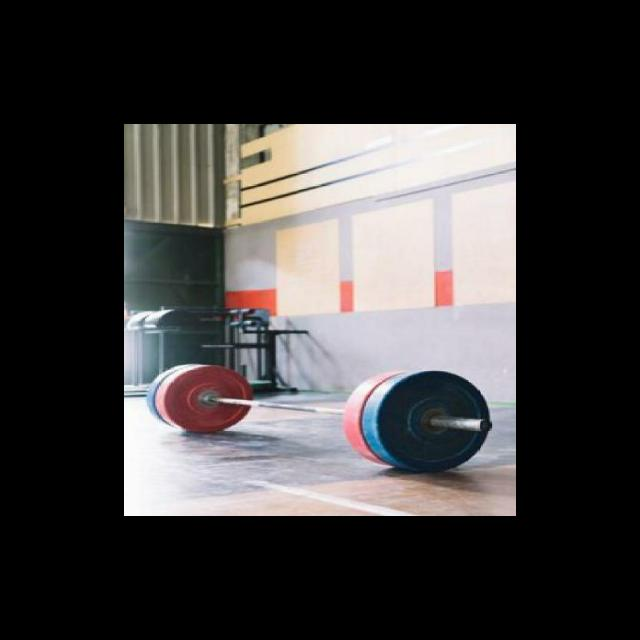barbell: (369, 365, 495, 477)
